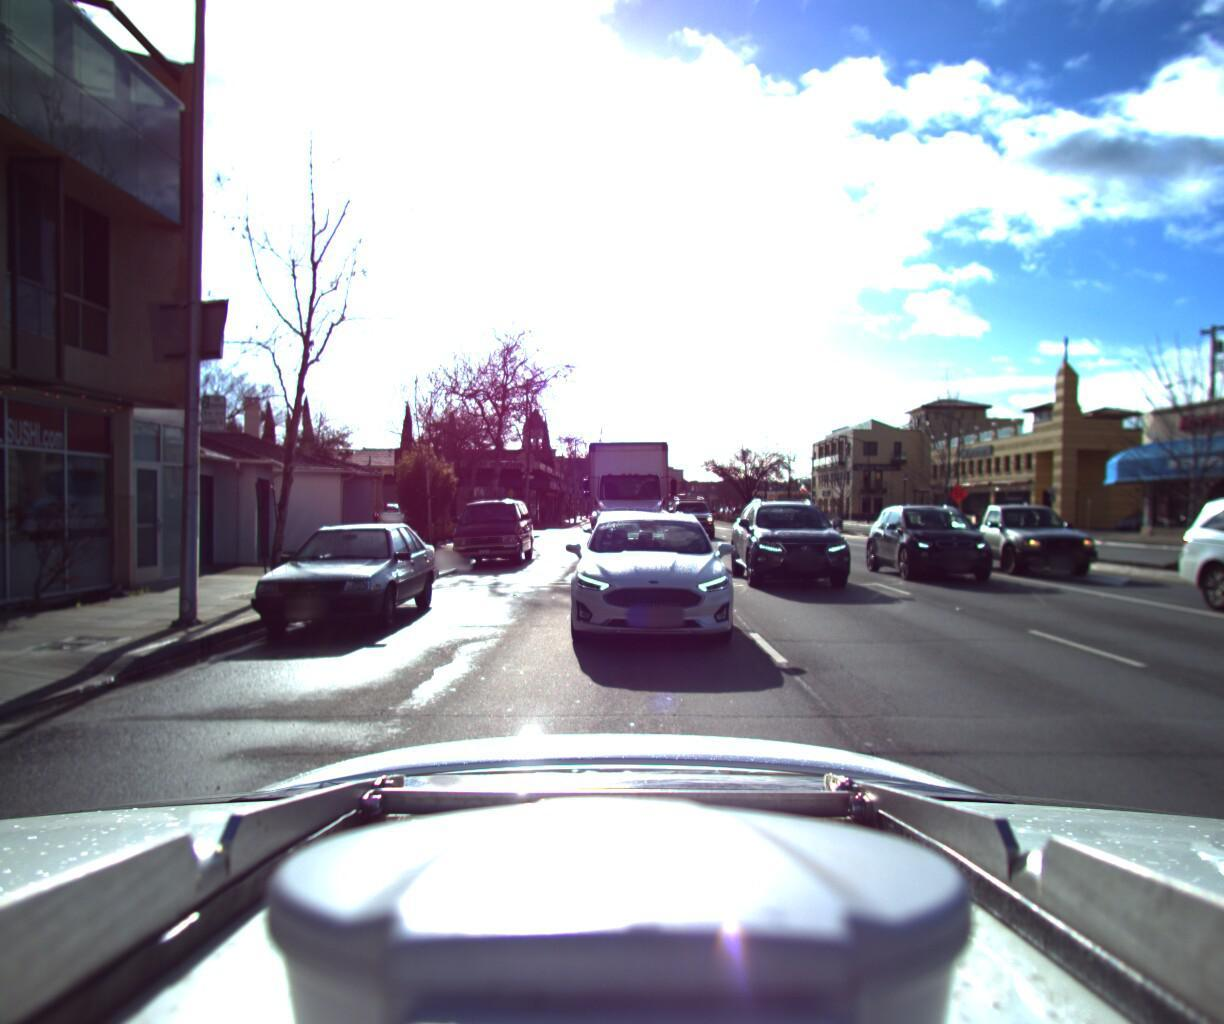car: (543, 503, 745, 659), (227, 516, 448, 641), (725, 488, 863, 591), (940, 495, 1115, 575), (865, 497, 1020, 585), (1165, 488, 1224, 660), (580, 504, 681, 587), (440, 493, 542, 567), (667, 485, 719, 533)
truck: (573, 431, 680, 561)
